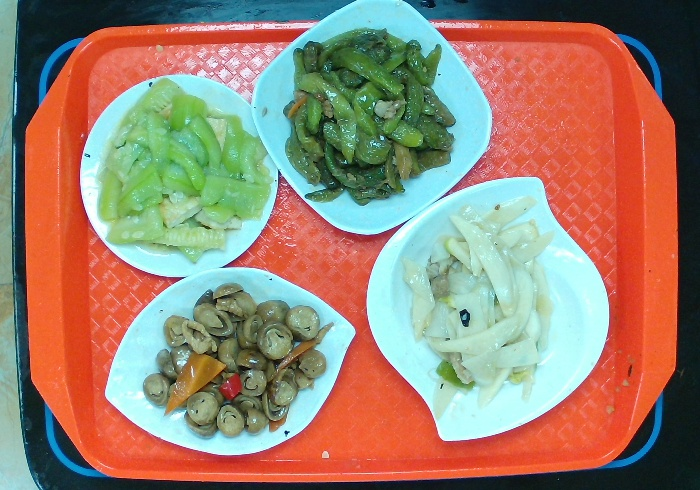RJxy-Da_Du_Pan: (100, 262, 359, 459)
RJxy-Shuang_Jiao_Pan: (362, 171, 614, 447)
RJxy-Si_Fang_Wan: (245, 1, 497, 239)
RJxy-Xiao_Yuan_Die: (74, 68, 285, 281)
